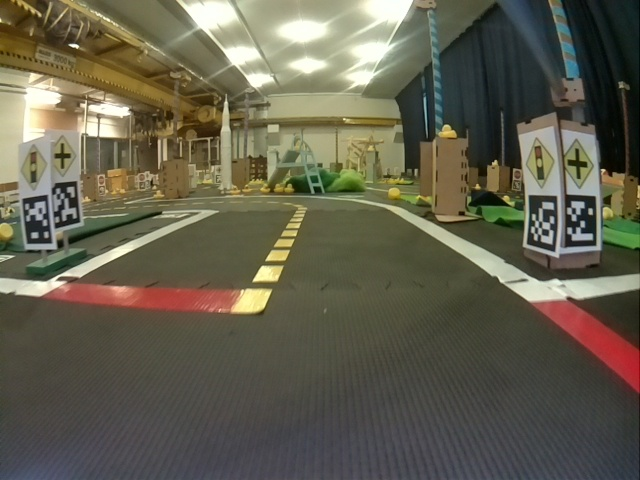Duckie: (439, 125, 457, 138), (1, 223, 13, 239), (388, 188, 400, 199), (260, 183, 270, 193), (285, 183, 294, 193), (274, 183, 282, 193)
Intersection sign: (564, 140, 596, 190), (53, 135, 76, 177)
QR code: (526, 194, 558, 252), (564, 194, 598, 248), (22, 194, 53, 244), (53, 182, 81, 229)
Signal sign: (20, 144, 48, 190)
